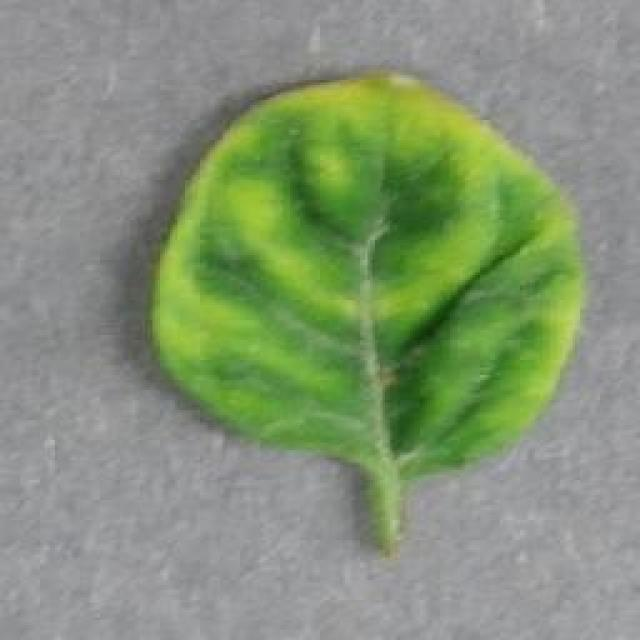Tomato yellow virus leaf: (144, 67, 584, 480)
